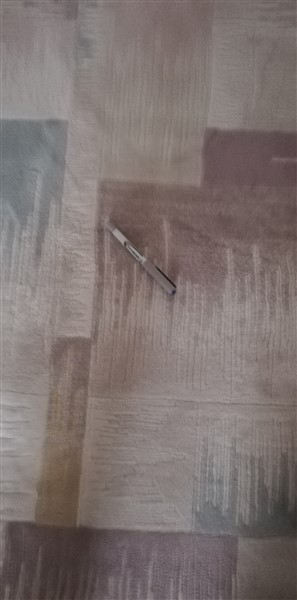pilot kalem: (104, 218, 180, 301)
